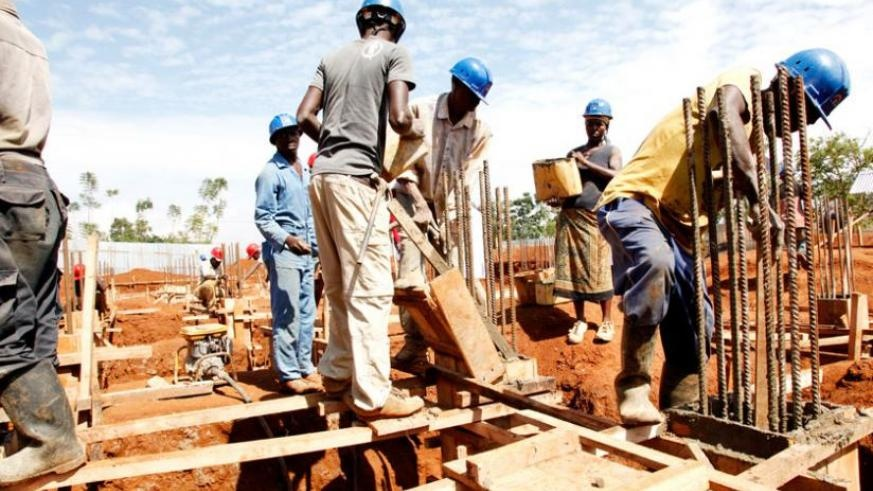blue: (773, 44, 853, 131), (353, 1, 408, 48), (447, 55, 492, 111), (266, 111, 303, 155), (580, 96, 612, 143)
